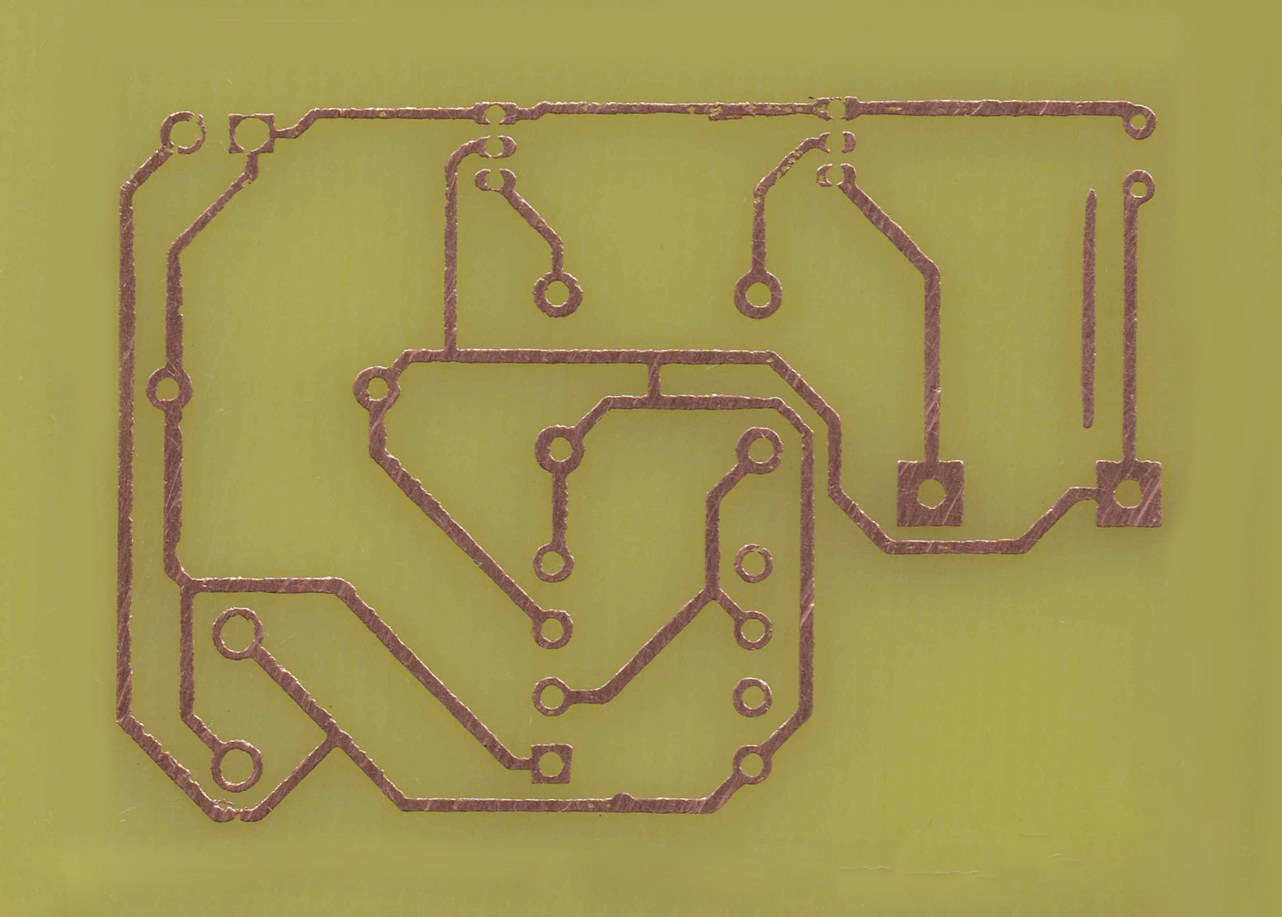missing_hole: (223, 108, 278, 159), (159, 111, 208, 157), (729, 542, 773, 582), (816, 91, 863, 122), (471, 165, 519, 195), (812, 159, 859, 189), (477, 130, 518, 162), (815, 128, 860, 157)
short: (639, 344, 668, 416)
spur: (601, 782, 636, 820)
spurious_copper: (1072, 184, 1106, 439)
